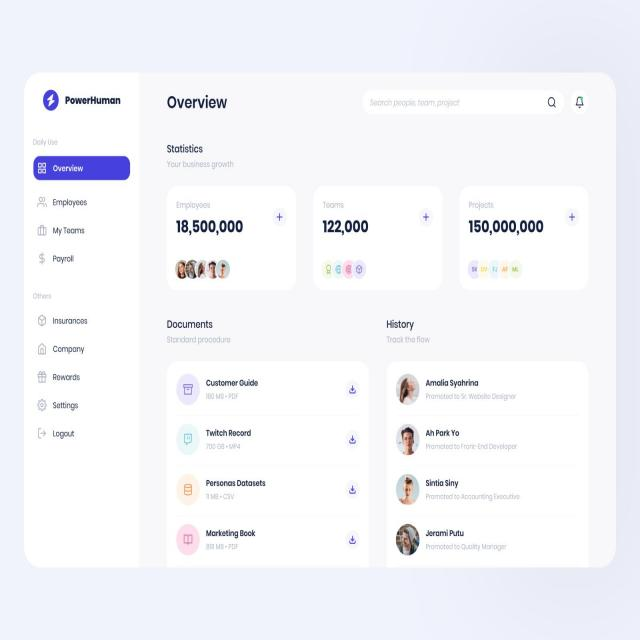button: (571, 89, 589, 116), (344, 379, 362, 399), (417, 206, 434, 226), (274, 205, 288, 228), (564, 206, 580, 226), (345, 429, 360, 449)
input: (361, 88, 565, 116)
